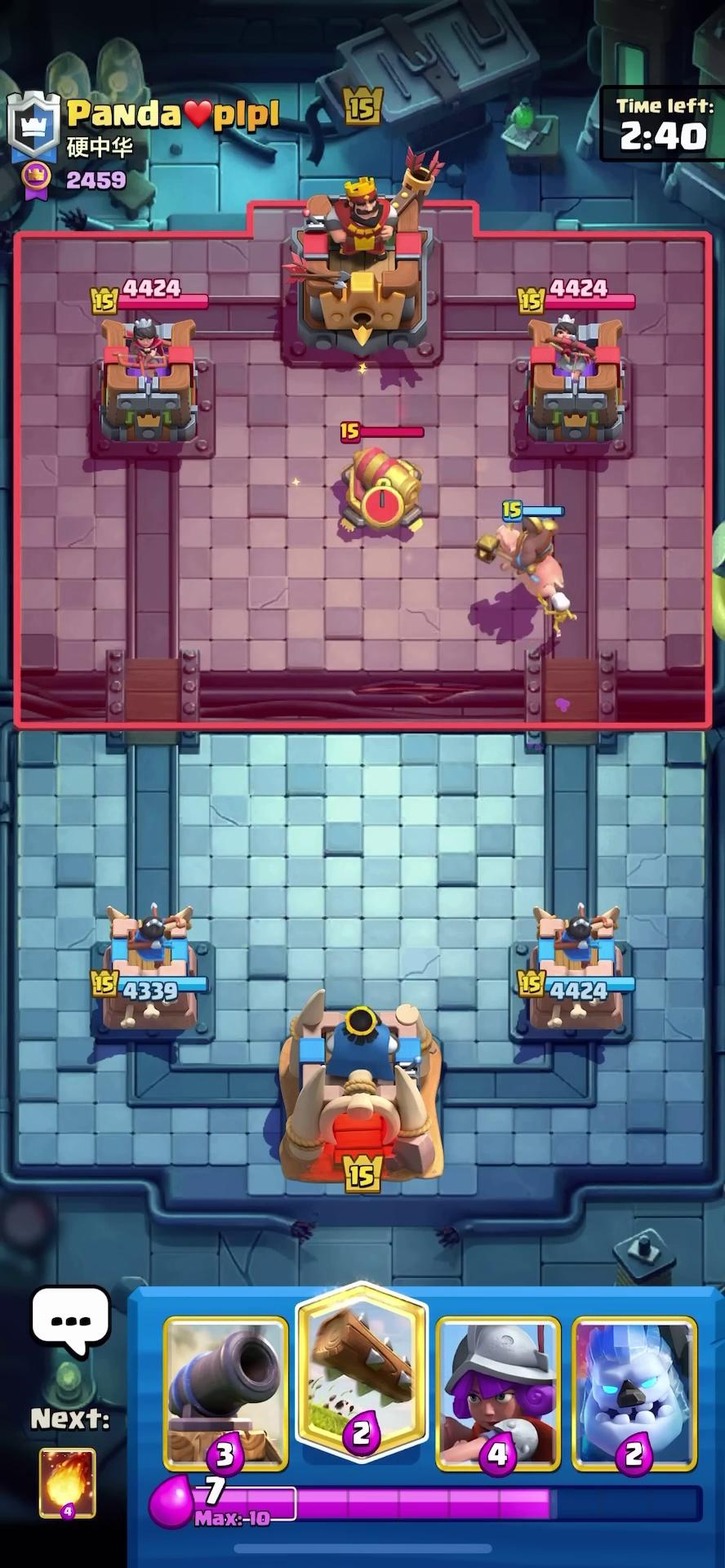hog_rider: (467, 490, 576, 600)
skeletons: (537, 584, 600, 635)
